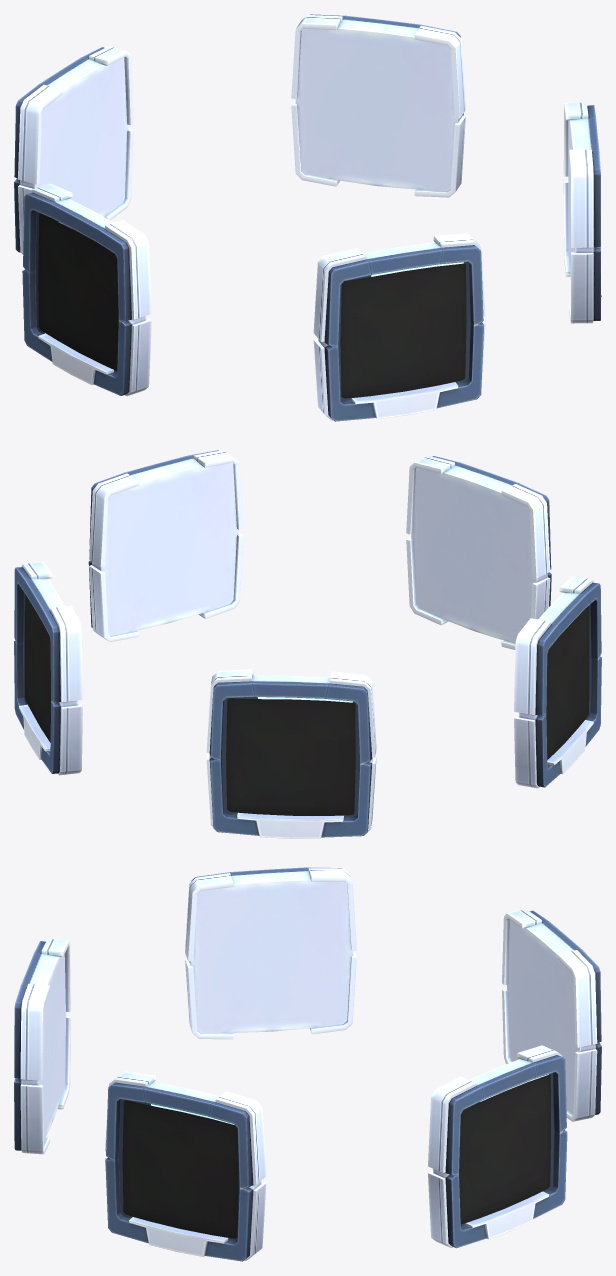
The picture shows the model from 3 angles, top to bottom: view 1: azimuth 30°, elevation 25°; view 2: azimuth 150°, elevation 25°; view 3: azimuth 270°, elevation 25°; orthographic projection. The views are drawn at different scales.
Parts seen in each view (by area): view 1: obj_tv; view 2: obj_tv; view 3: obj_tv.
Boxes of the visible parts, x1,y1,x2,y2 form: obj_tv: [14, 14, 601, 421]; obj_tv: [14, 450, 601, 838]; obj_tv: [14, 867, 601, 1261].
Size of what is drawn, in the model's own units: 6.44 by 1.91 by 6.46.
Materials: 2 (1 with a texture image).
